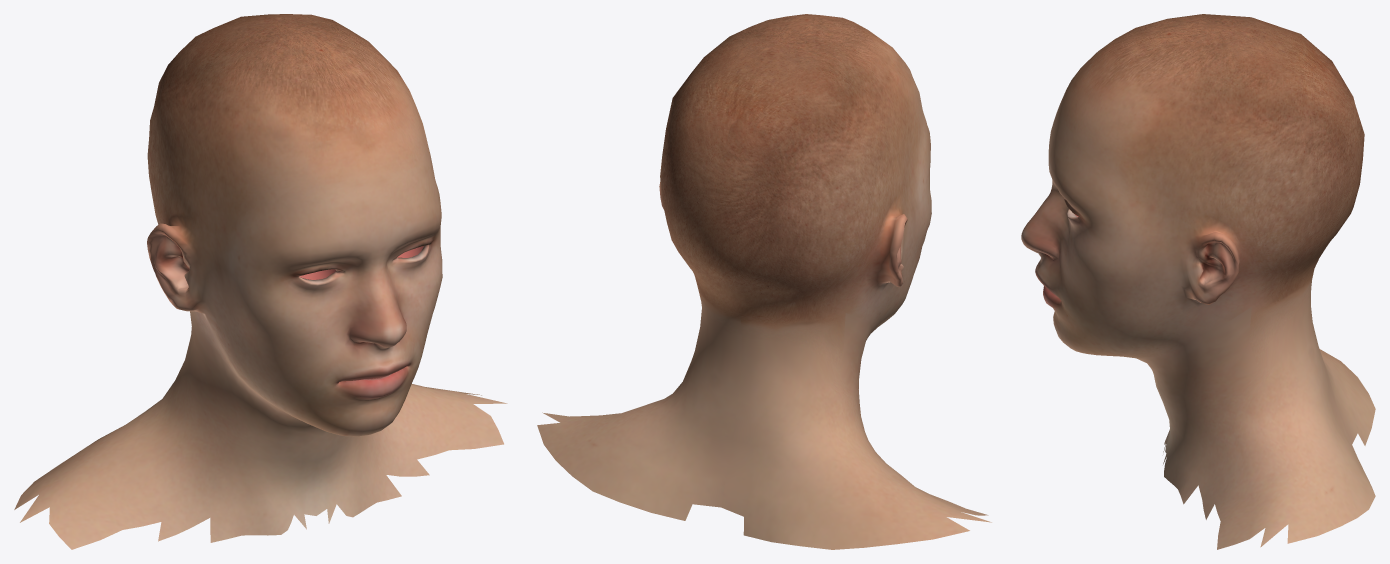
File: head.glb
3 renders of one model, left to right at view 1: azimuth 30°, elevation 25°; view 2: azimuth 150°, elevation 25°; view 3: azimuth 270°, elevation 25°, orthographic. The views are drawn at different scales.
Visible parts, largest first — view 1: male_muscle_13290; view 2: male_muscle_13290; view 3: male_muscle_13290.
Boxes of the visible parts, x1,y1,x2,y2 form: male_muscle_13290: [14, 14, 507, 549]; male_muscle_13290: [537, 14, 991, 549]; male_muscle_13290: [1021, 14, 1375, 549].
Bounding box in the file's own units: 0.3153 × 0.2938 × 0.2169.
1 material, 1 textured.
